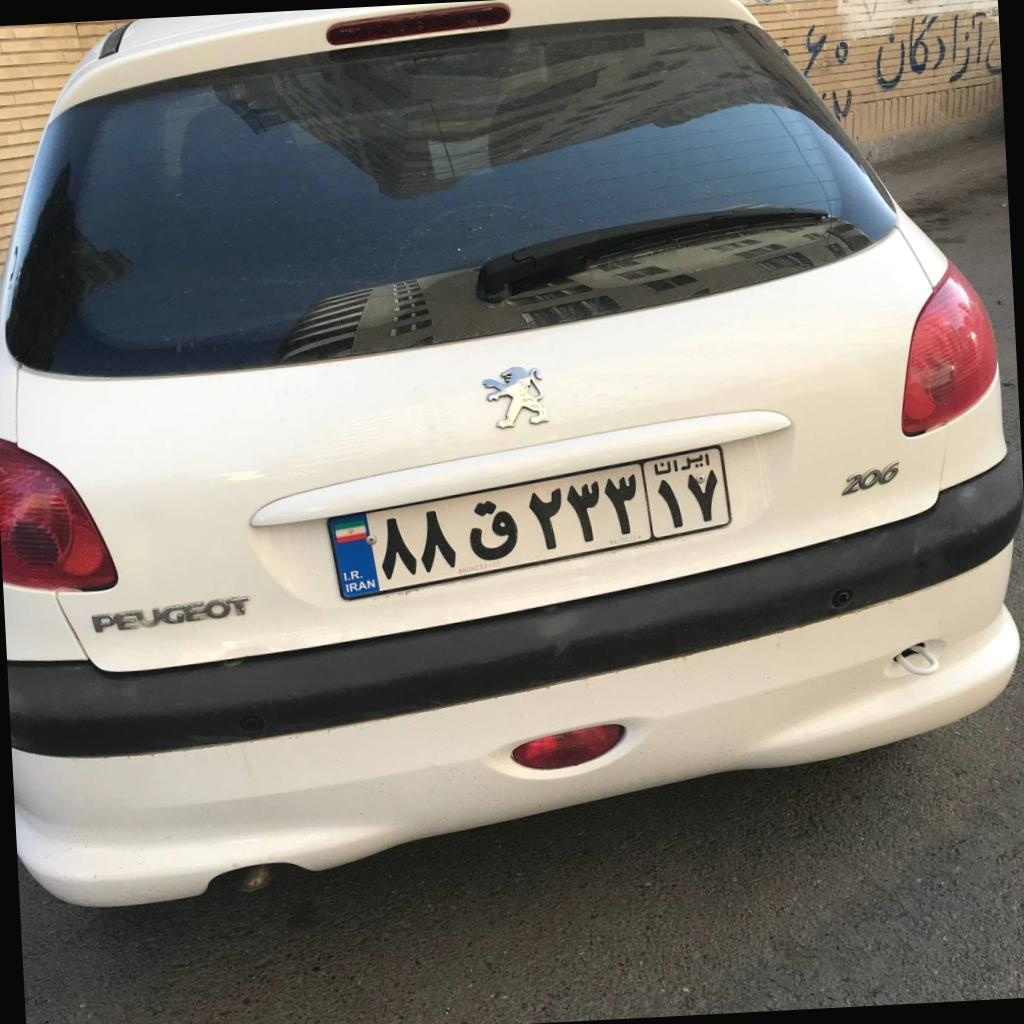Plates: (326, 446, 734, 600)
